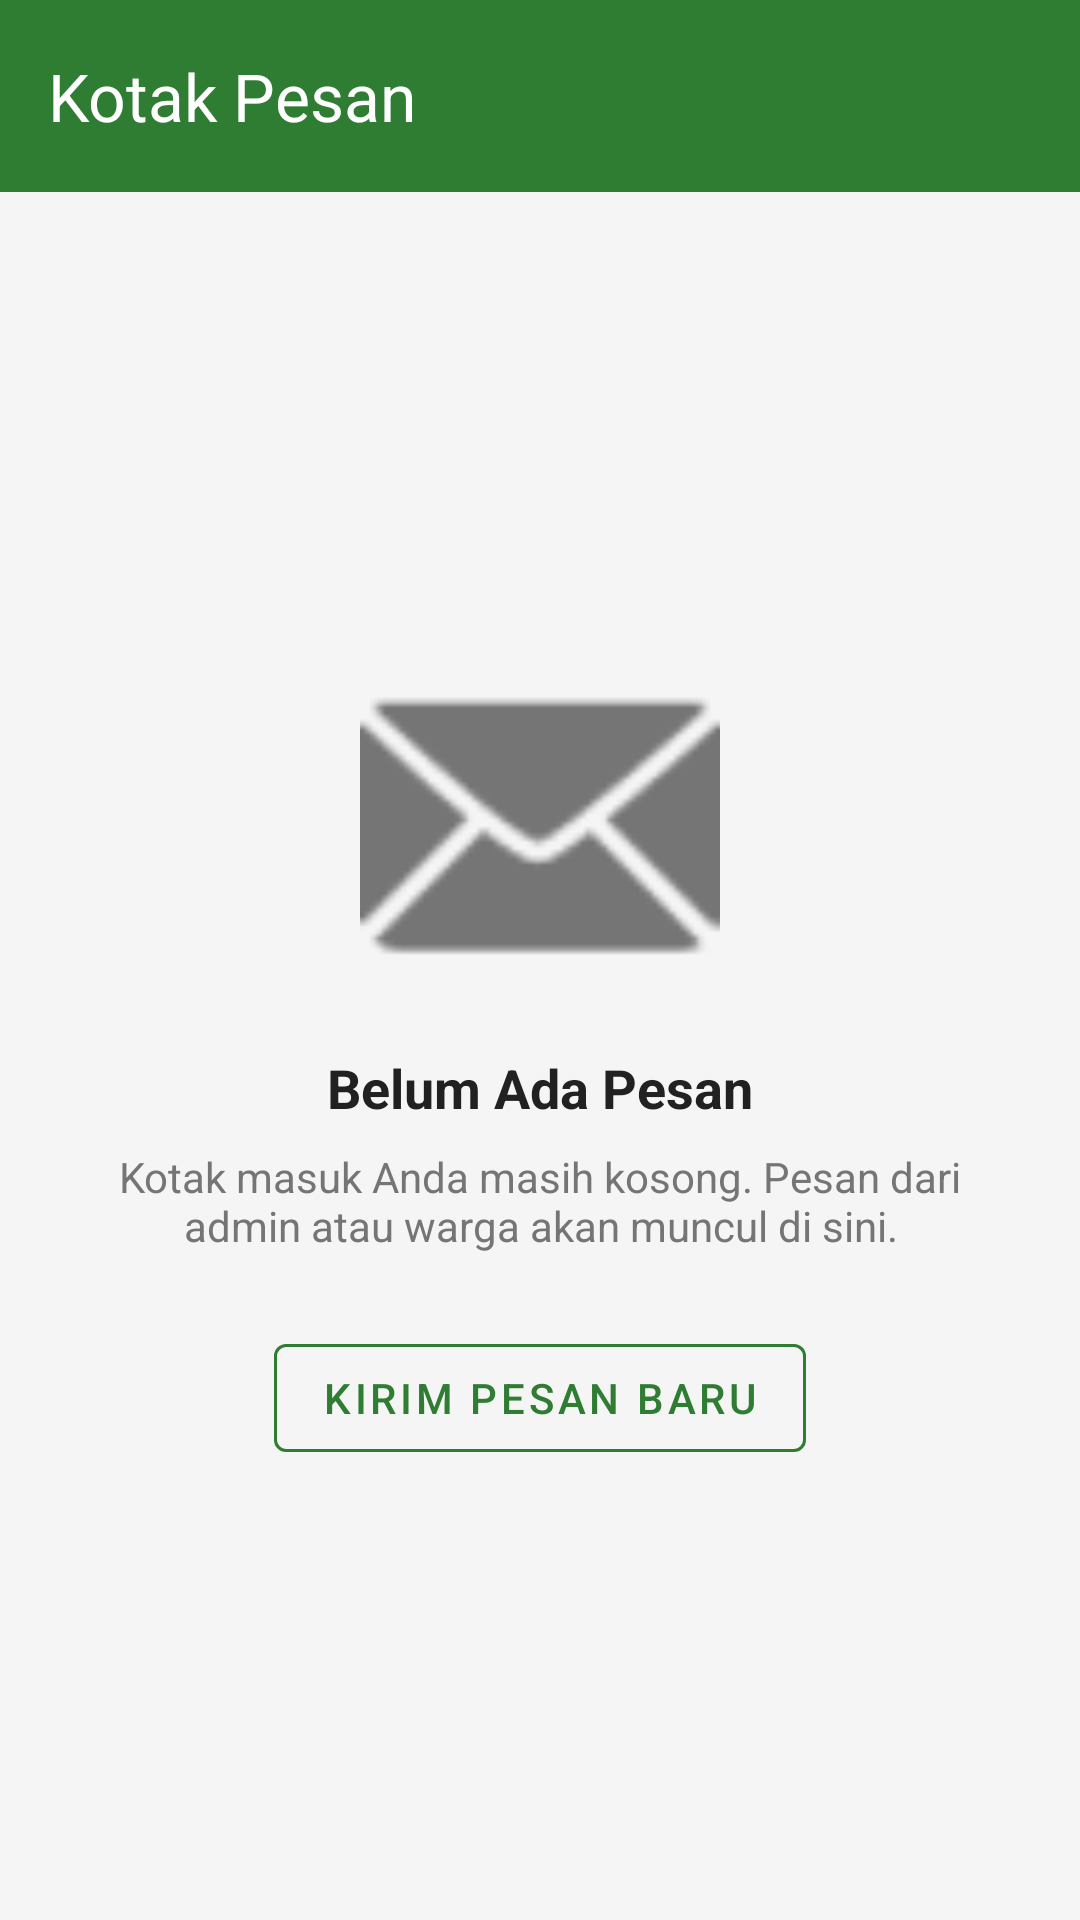

Icon bounding boxes for this 1080px×1920px phone screenshot, format (x1, y1, x2, y2):
email: (360, 700, 720, 954)
